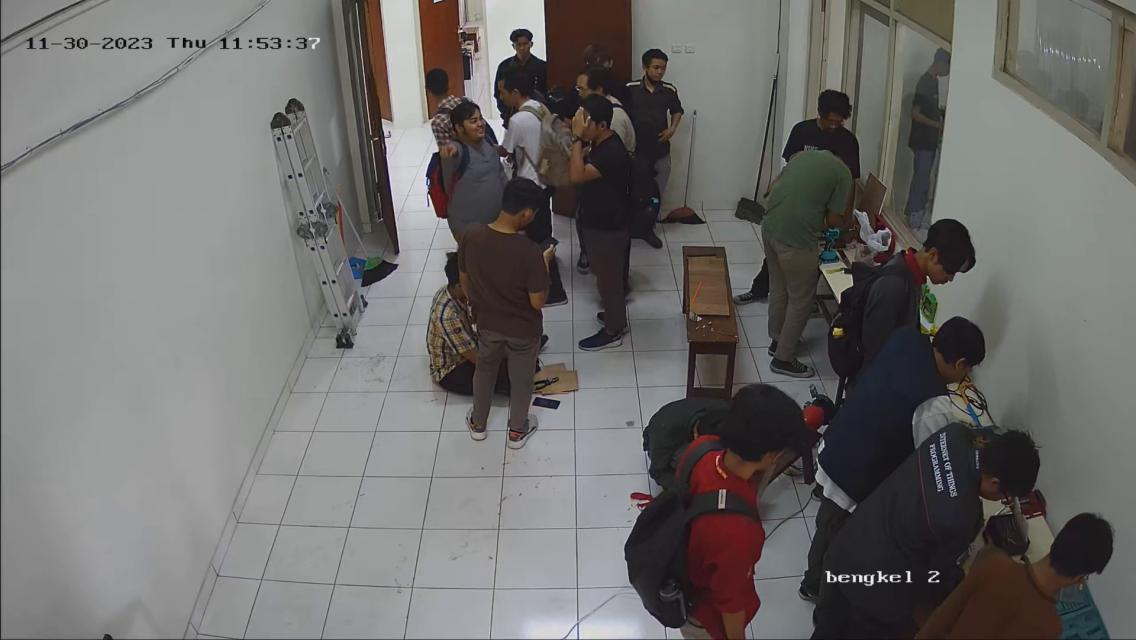Crowd: (397, 21, 715, 452)
